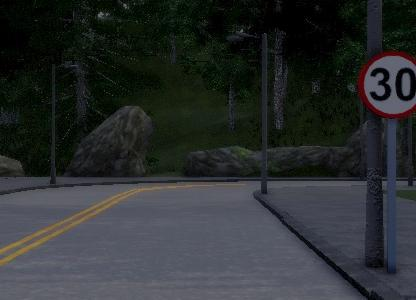Speed_30: (357, 47, 416, 120)
